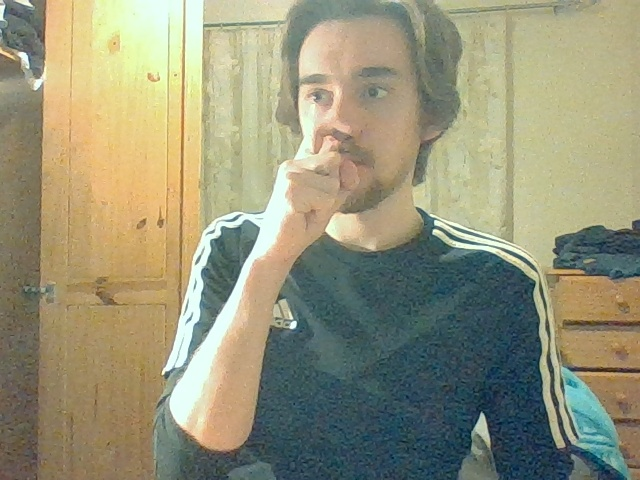sister: (276, 115, 362, 237)
